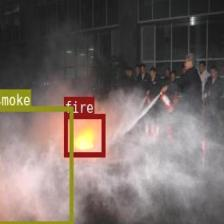fire: (63, 113, 104, 157)
smoke: (0, 106, 72, 224)
